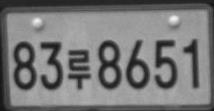1: (181, 38, 204, 88)
3: (39, 41, 64, 90)
5: (153, 39, 178, 89)
6: (125, 39, 150, 90)
8: (96, 38, 122, 90), (12, 39, 37, 91)
루: (67, 48, 91, 91)
